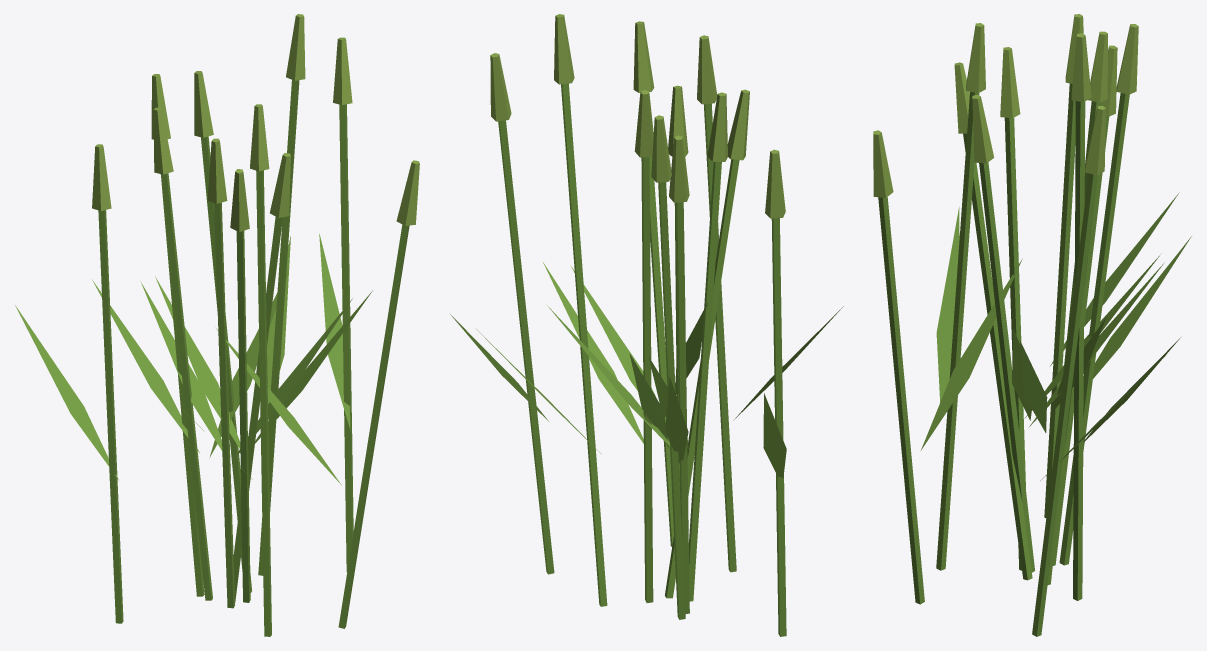
The model's file is wheat_s2.glb.
3 renders of one model, left to right at view 1: azimuth 30°, elevation 25°; view 2: azimuth 150°, elevation 25°; view 3: azimuth 270°, elevation 25°, orthographic. The views are drawn at different scales.
Parts seen in each view (by area): view 1: wheat; view 2: wheat; view 3: wheat.
Part boxes in pixels (x1,y1,x2,y2): wheat: (15, 14, 419, 636); wheat: (450, 14, 843, 636); wheat: (873, 14, 1191, 636).
Bounding box in the file's own units: 0.4706 × 0.8182 × 0.4051.
